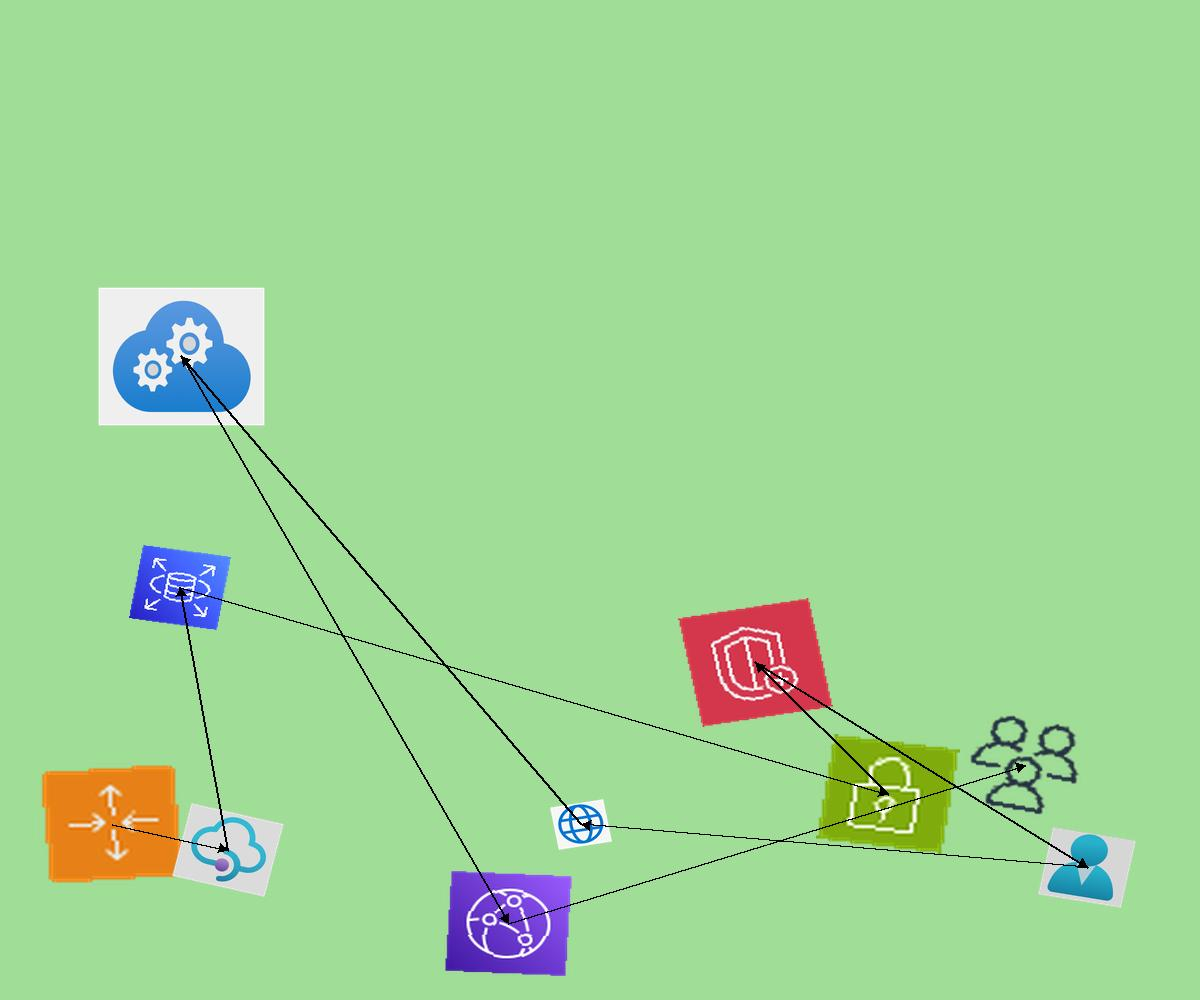AWS-CloudFront: (444, 870, 573, 977)
AWS-Public-subnet: (816, 734, 960, 854)
AWS-RDS: (129, 545, 231, 630)
AWS-Res_Users: (954, 706, 1096, 824)
AWS-Scaling-group: (39, 763, 185, 885)
AWS-Shield: (678, 598, 833, 727)
Azure_api_gateway: (172, 803, 284, 897)
Azure_cloud_services: (98, 287, 265, 426)
Azure_http: (550, 799, 612, 850)
Azure_users: (1038, 827, 1136, 908)
